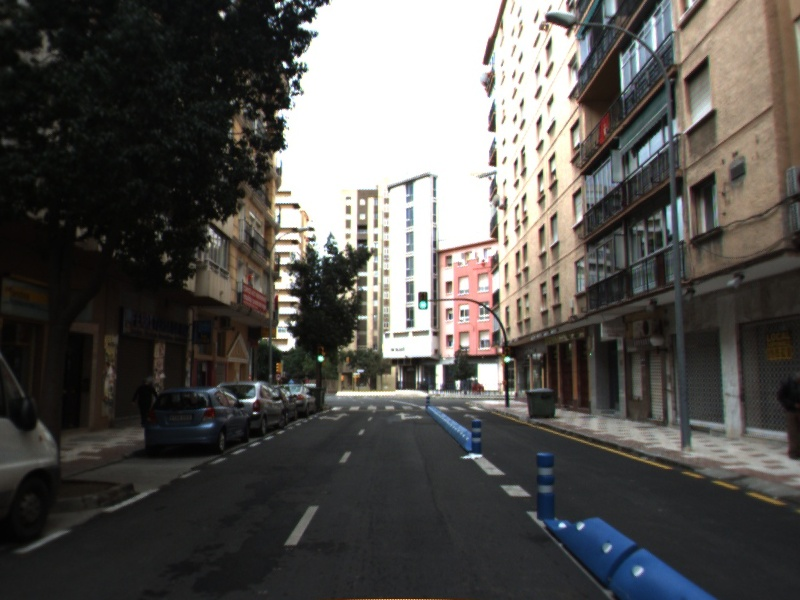STRAIGHT_LEFT: (317, 411, 351, 422)
STRAIGHT_RIGHT: (394, 411, 425, 421)
